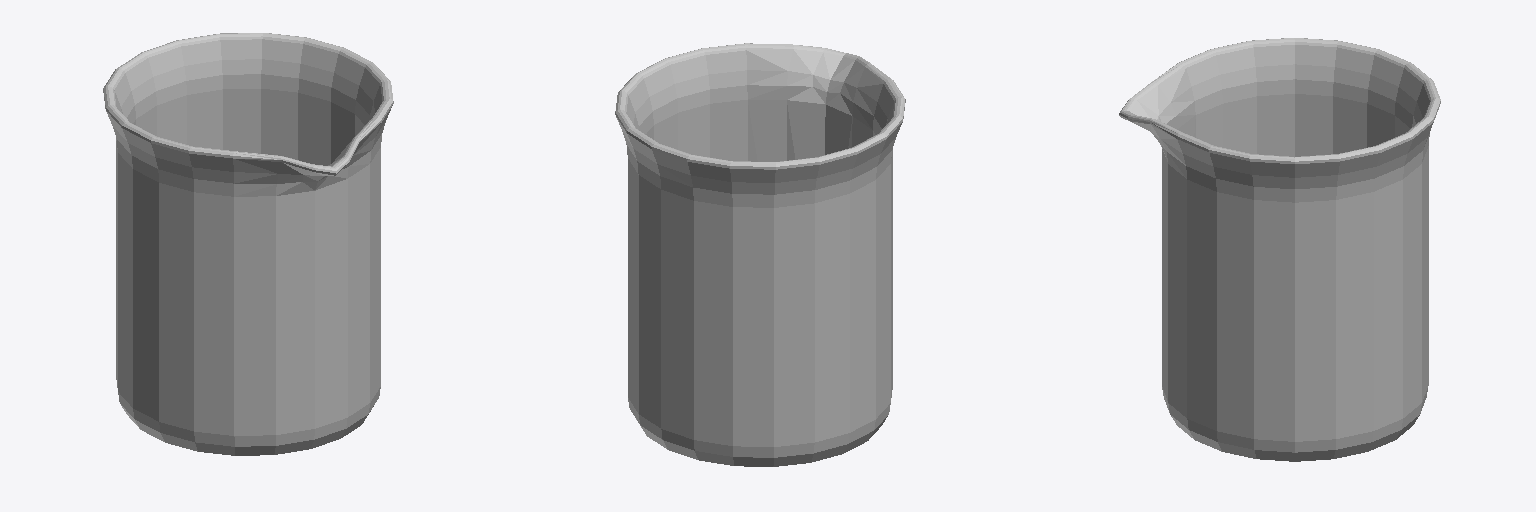
The model's file is Beaker_500ml.obj.
3 renders of one model, left to right at view 1: azimuth 30°, elevation 25°; view 2: azimuth 150°, elevation 25°; view 3: azimuth 270°, elevation 25°, orthographic.
Parts seen in each view (by area): view 1: Bequer_500mL_Glass_MAT_0; view 2: Bequer_500mL_Glass_MAT_0; view 3: Bequer_500mL_Glass_MAT_0.
Part boxes in pixels (x1,y1,x2,y2): Bequer_500mL_Glass_MAT_0: (103, 33, 393, 455); Bequer_500mL_Glass_MAT_0: (615, 43, 905, 466); Bequer_500mL_Glass_MAT_0: (1119, 38, 1440, 461).
Bounding box in the file's own units: 0.1247 × 0.1492 × 0.1376.